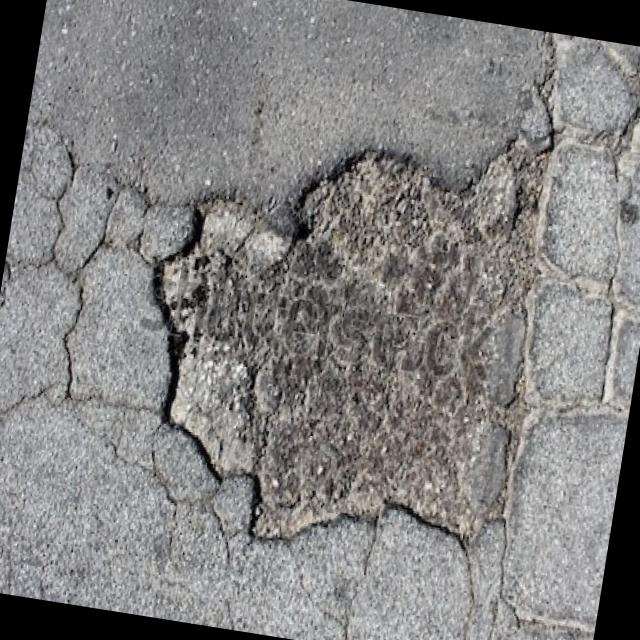Potholes: (60, 0, 621, 596)
